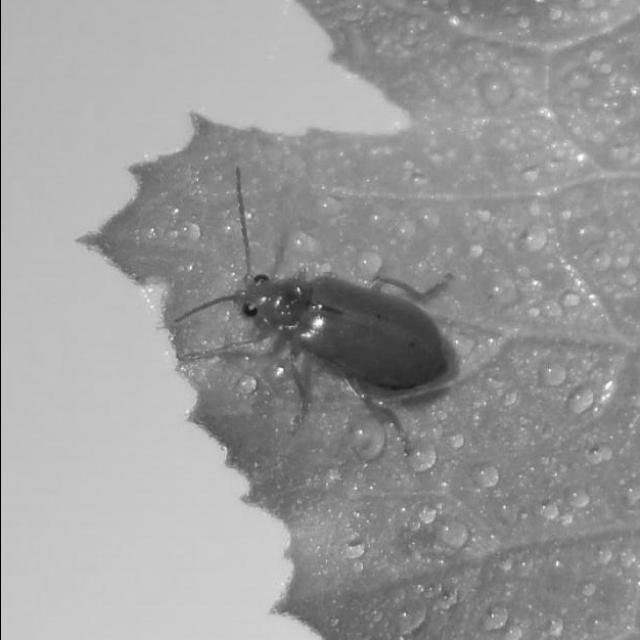Pumpkin Beetle: (171, 160, 455, 461)
